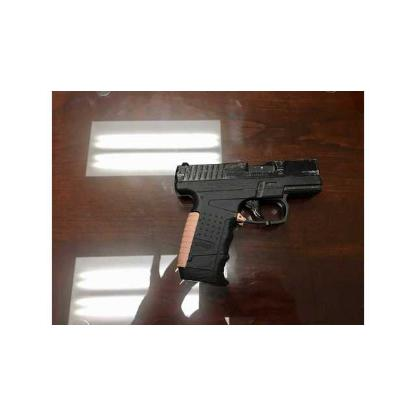gun: (171, 158, 325, 278)
